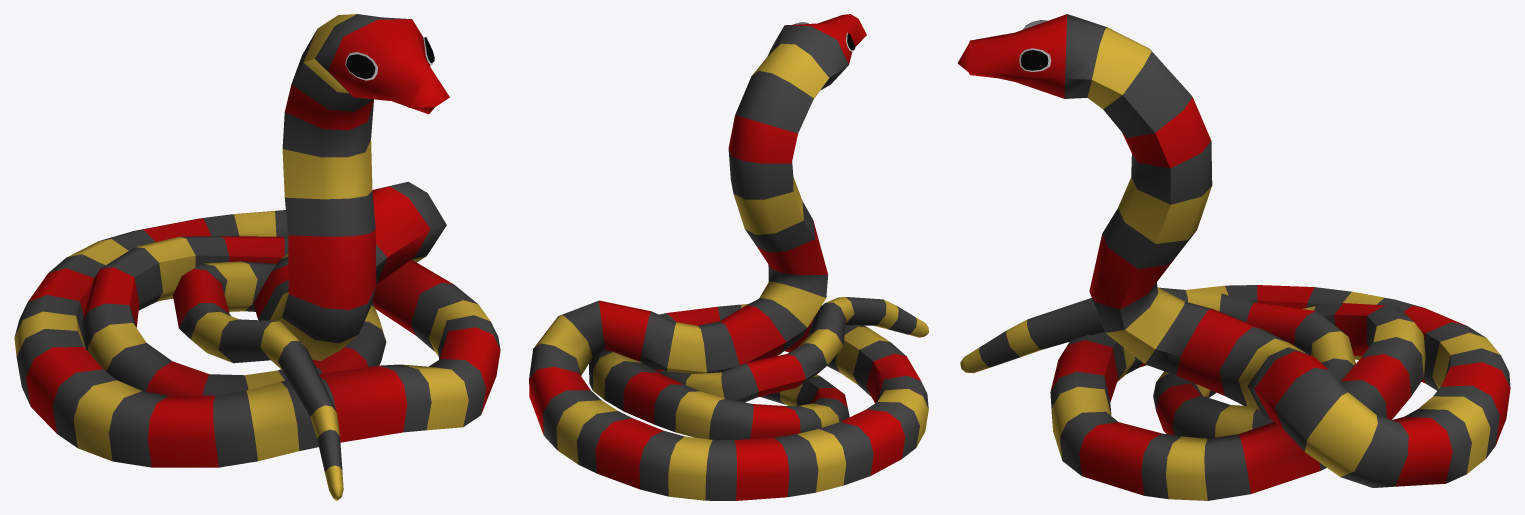
File: snake.glb
The picture shows the model from 3 angles, left to right: view 1: azimuth 30°, elevation 25°; view 2: azimuth 150°, elevation 25°; view 3: azimuth 270°, elevation 25°; orthographic projection. The views are drawn at different scales.
Parts seen in each view (by area): view 1: base.120; view 2: base.120; view 3: base.120.
Part boxes in pixels (<box>): base.120: <box>14,14,500,500</box>; base.120: <box>529,14,928,500</box>; base.120: <box>957,14,1510,500</box>.
Size of the model in its own units: 0.5637 by 0.5519 by 0.6659.
